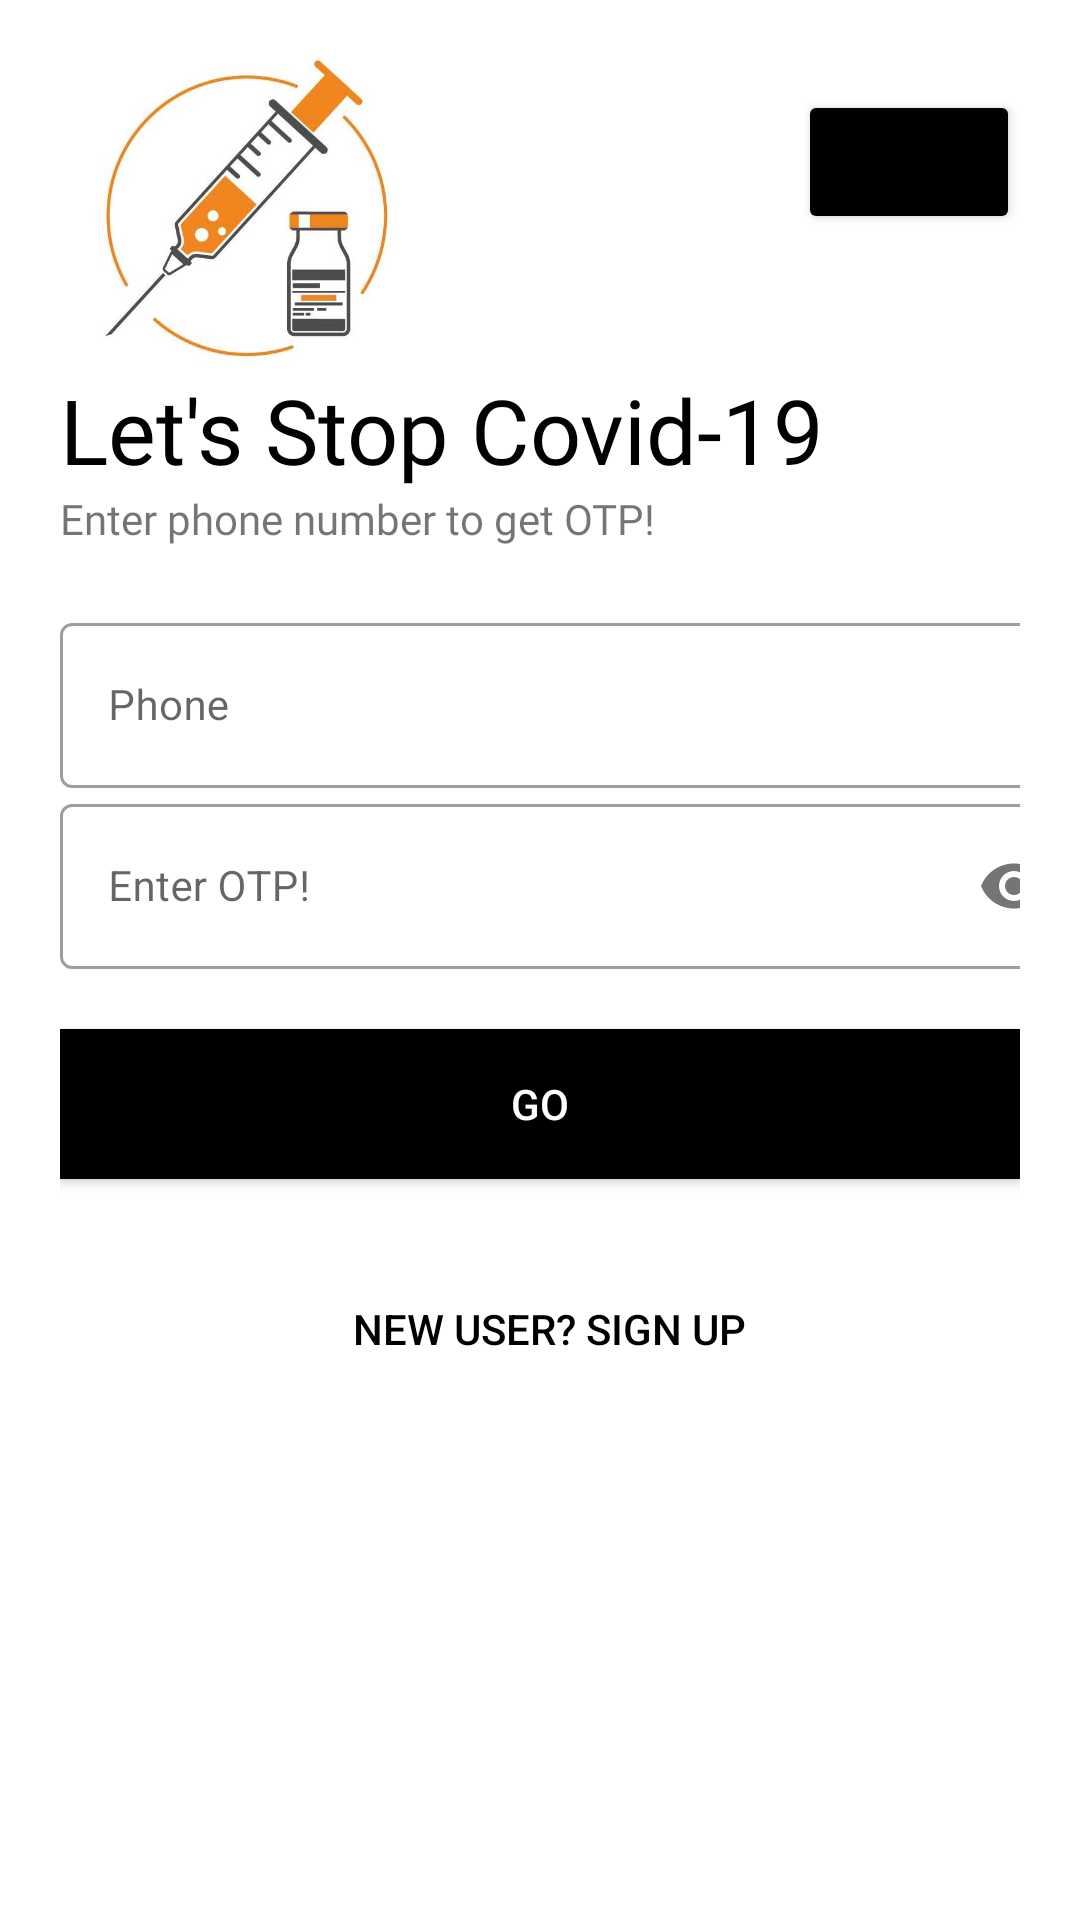

Icon bounding boxes for this 1080×1920 phone screenshot, format [left=x1, top=y1, right=x2, bottom=y2]:
vacbacrop: [left=105, top=60, right=388, bottom=357]
